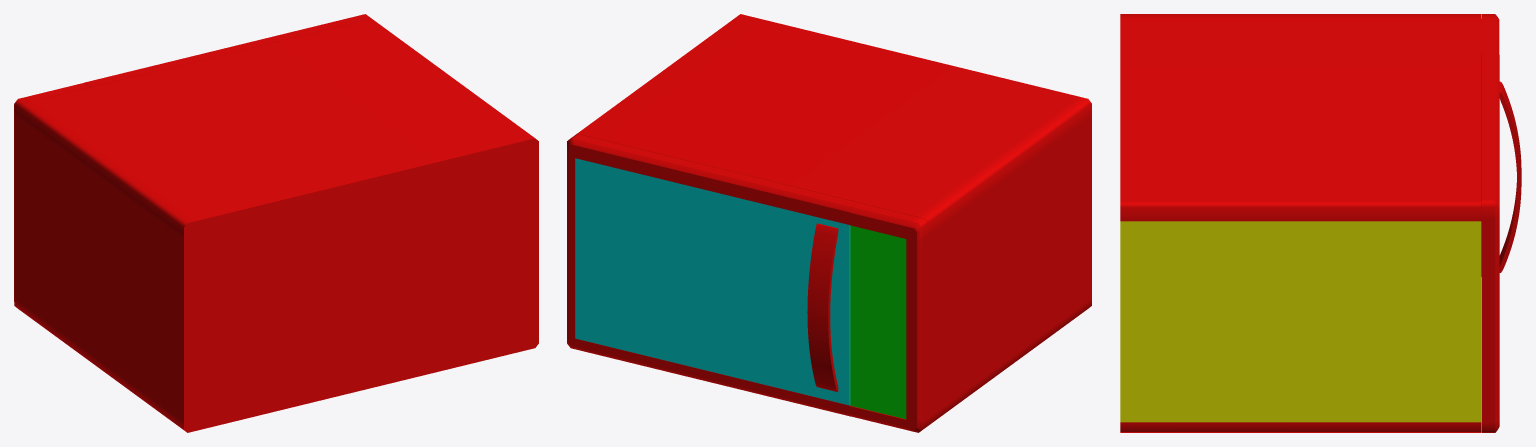
The model's file is Microondas_low.fbx.
3 views of the same model, side by side, from view 1: azimuth 30°, elevation 25°; view 2: azimuth 150°, elevation 25°; view 3: azimuth 270°, elevation 25° (orthographic). The views are drawn at different scales.
Visible parts, largest first — view 1: Base, Puerta; view 2: Base, Puerta; view 3: Base, Puerta.
Boxes of the visible parts, box(x1,y1,x2,y2) form: Base: box(14, 18, 538, 432); Puerta: box(85, 14, 371, 86); Base: box(577, 14, 1091, 432); Puerta: box(567, 134, 857, 416); Base: box(1120, 14, 1499, 432); Puerta: box(1481, 50, 1521, 432).
Bounding box in the file's own units: 51.3 × 30.2 × 45.5.
